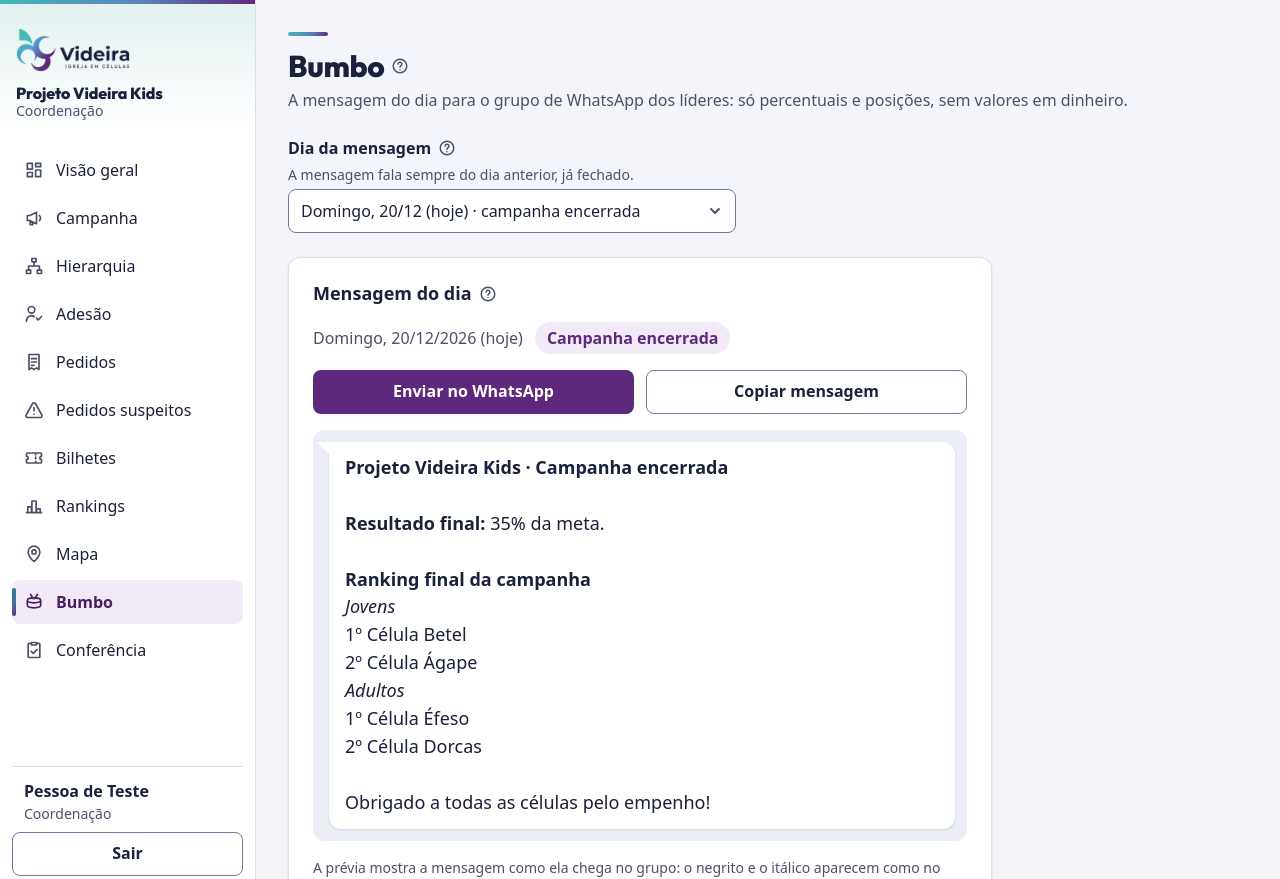
Test case: CA1: a mensagem do dia › campanha encerrada: hoje e a janela inteira, até o dia seguinte ao último (nenhum dia entre ele e hoje)
The image size is (1280, 879).
Expected: the text "Campanha encerrada" is shown, [535,322,730,354]
Step 1. Select "Segunda, 14/12 · dia seguinte ao fim" in the dropdown labelled "Dia da mensagem" → (512, 211), box [288,189,736,233]
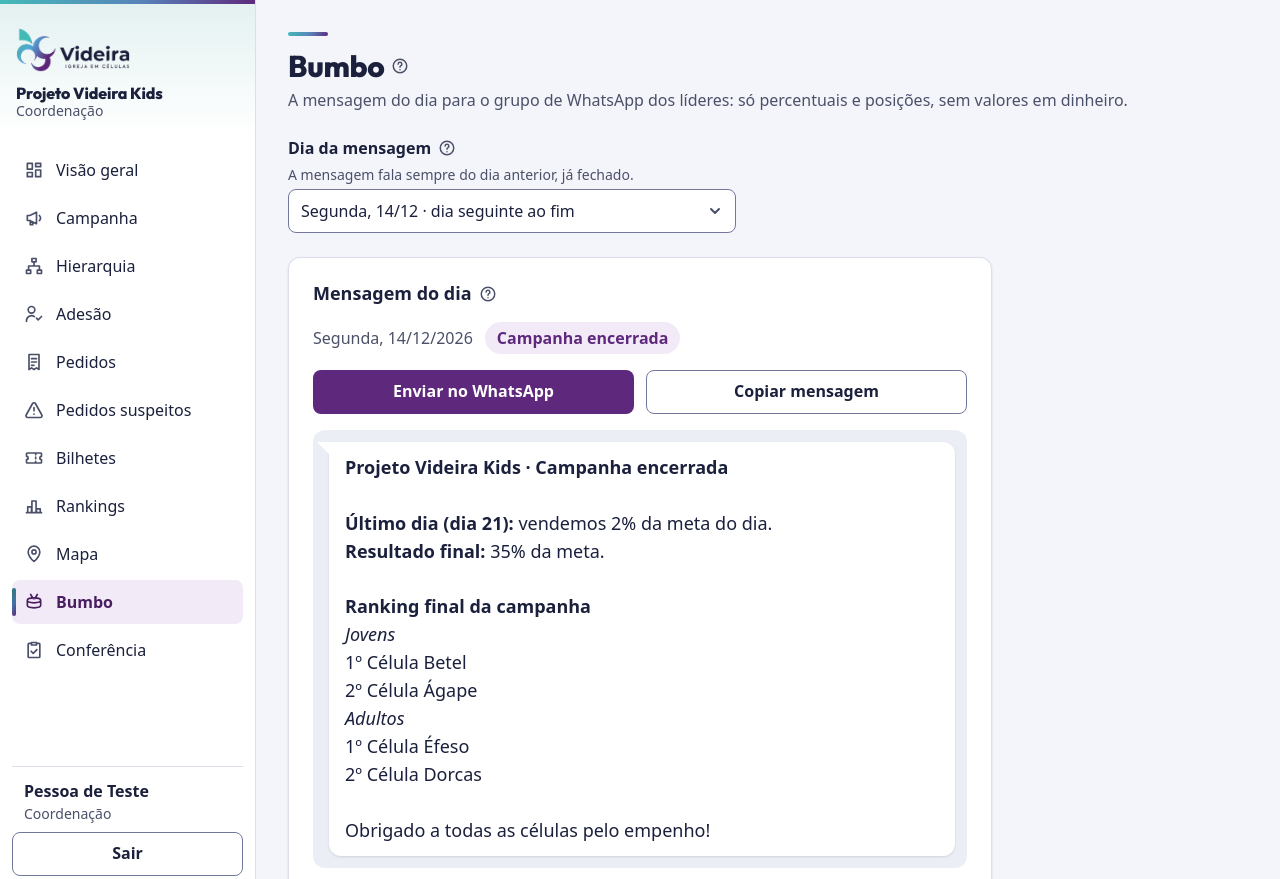
Expected: the text "Segunda, 14/12/2026" is shown, [313,326,473,350]
